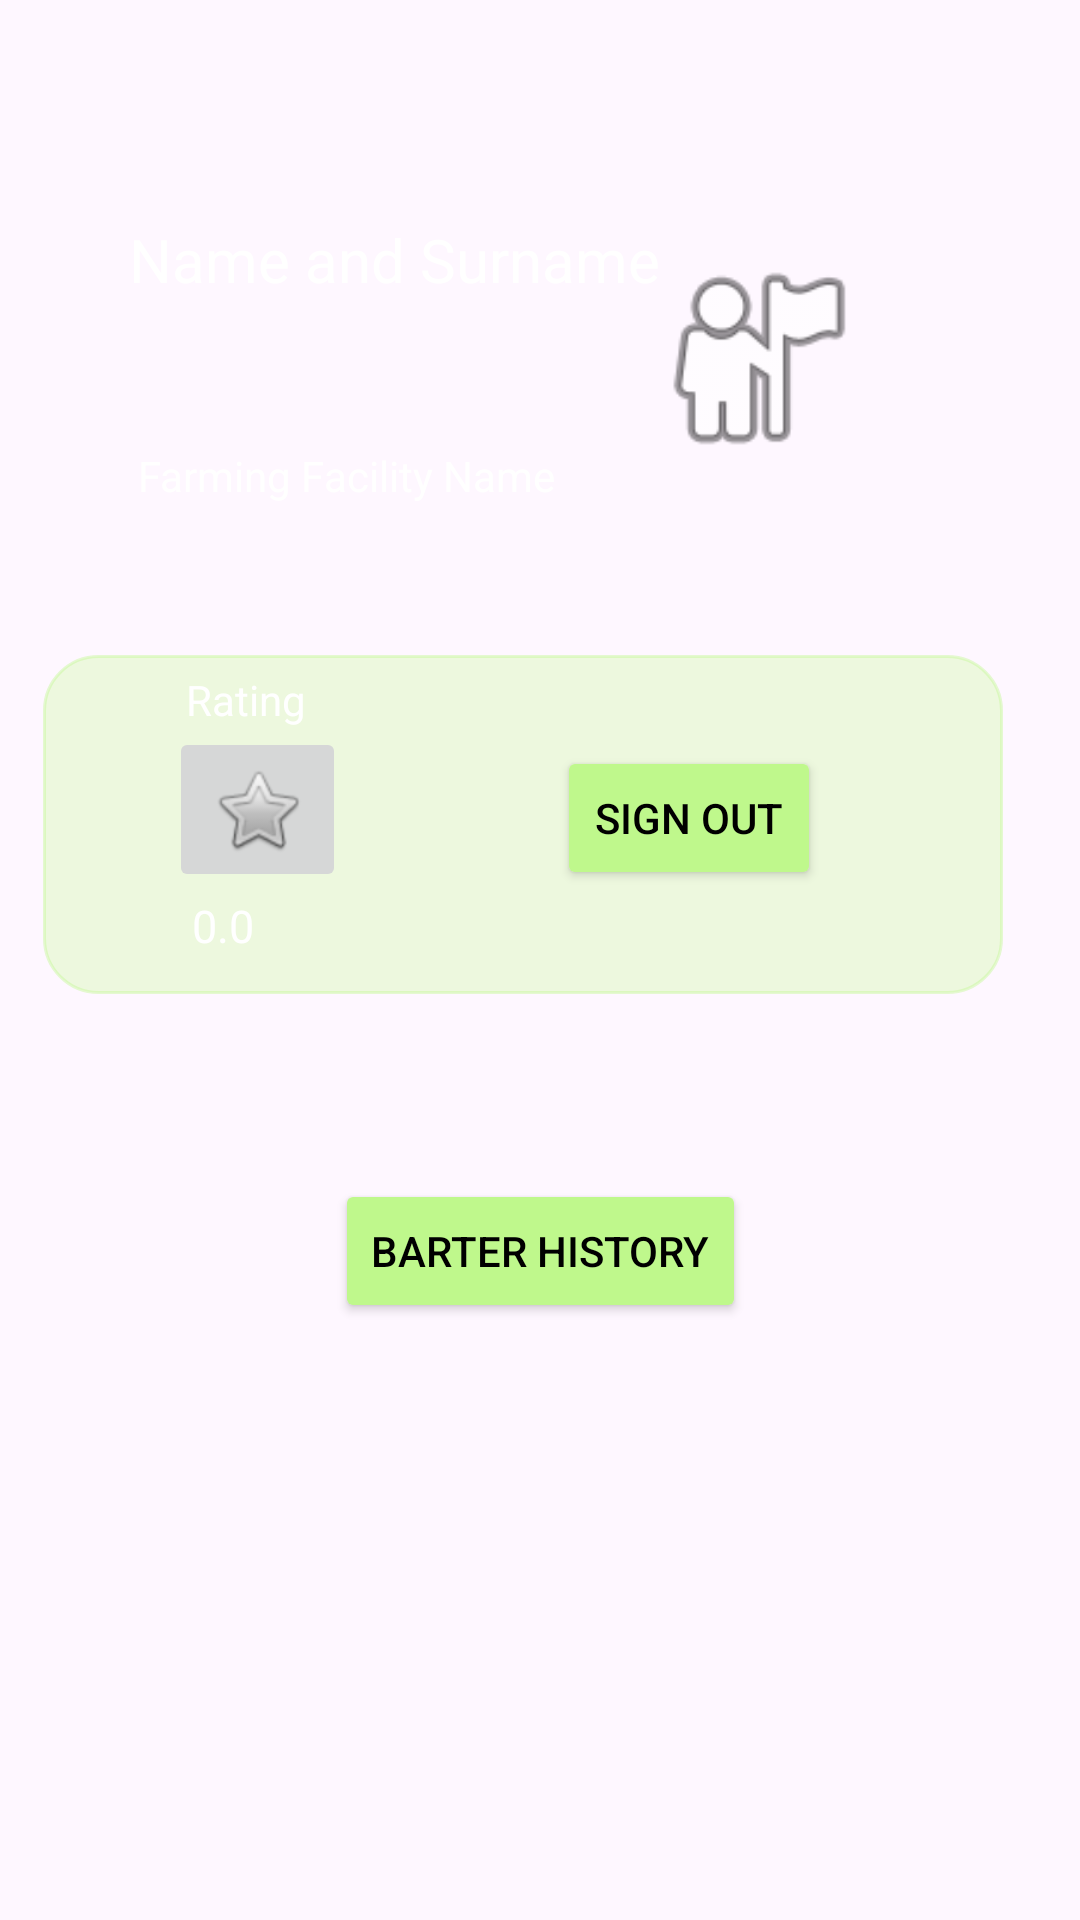

Point at icon controls on the screen. Image size 1080x1920, points as (x,y).
myplaces: (759,358)
star: (257,809)
